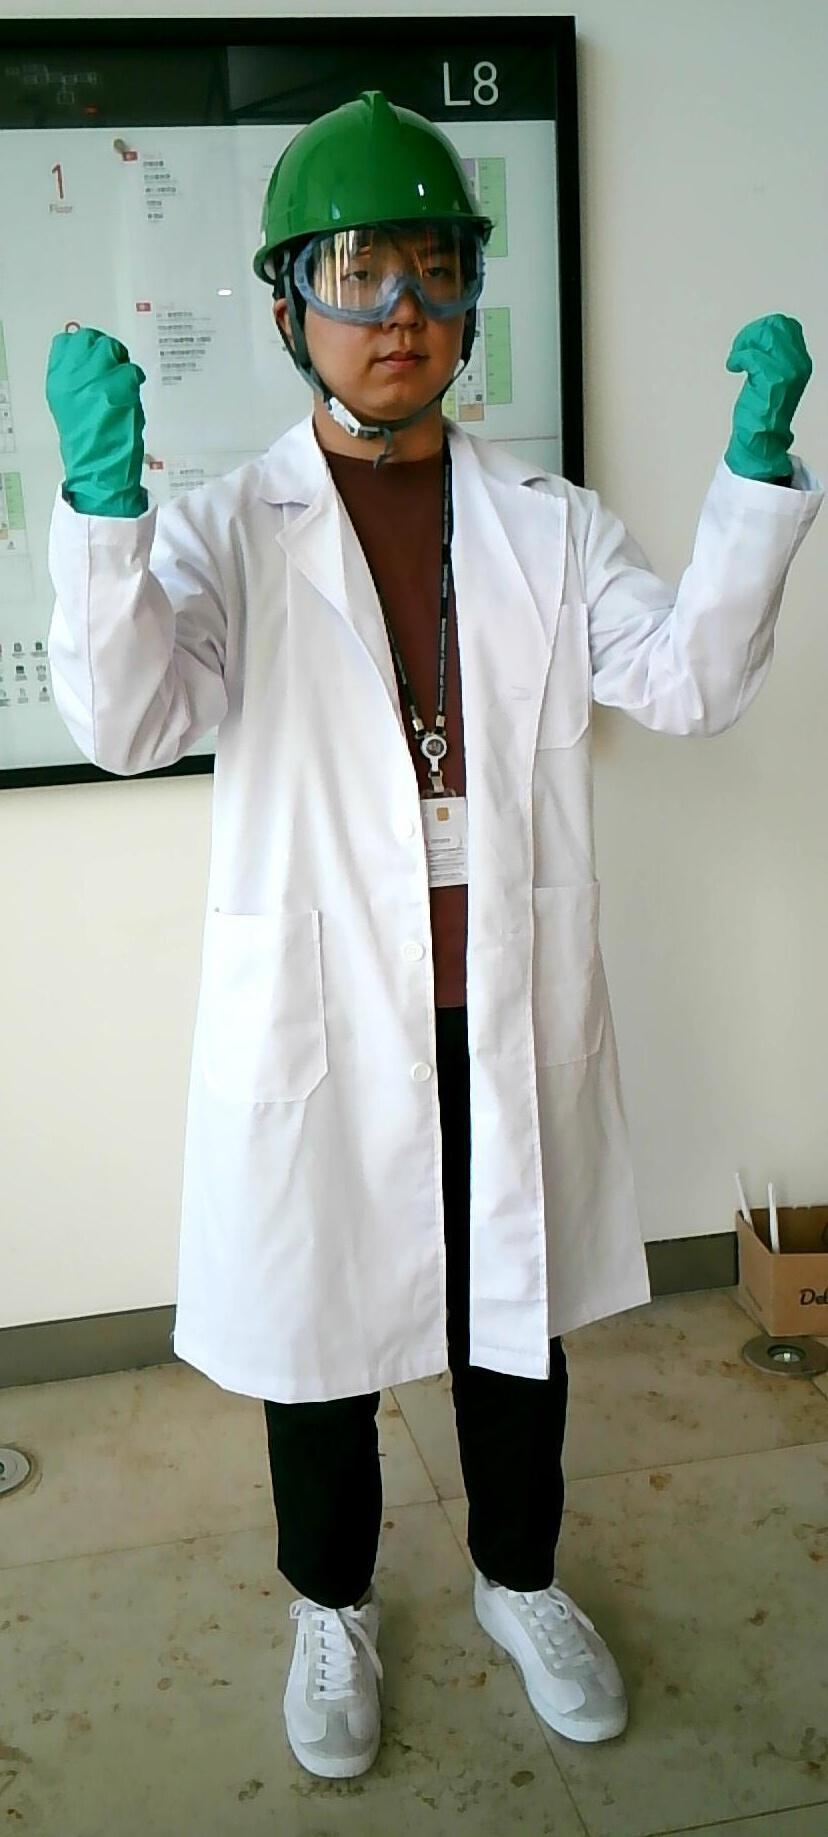lab_coat: (183, 507, 617, 1337)
